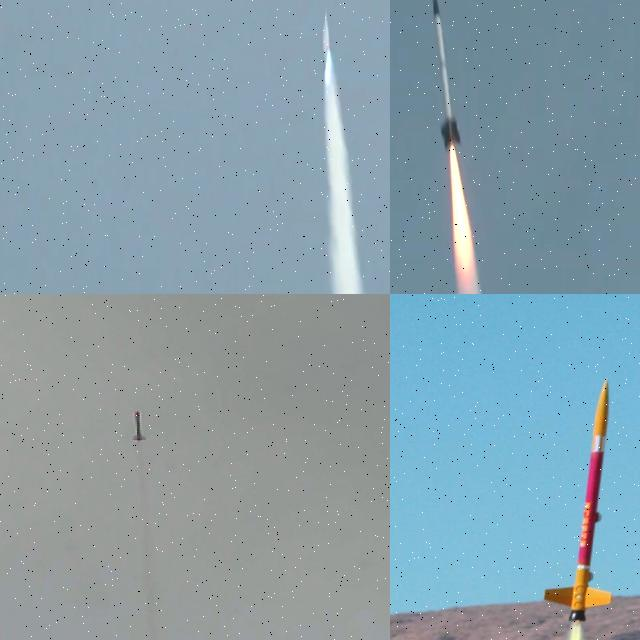Rocket: (543, 376, 613, 622), (432, 0, 462, 149), (320, 8, 337, 84), (131, 409, 147, 442)
